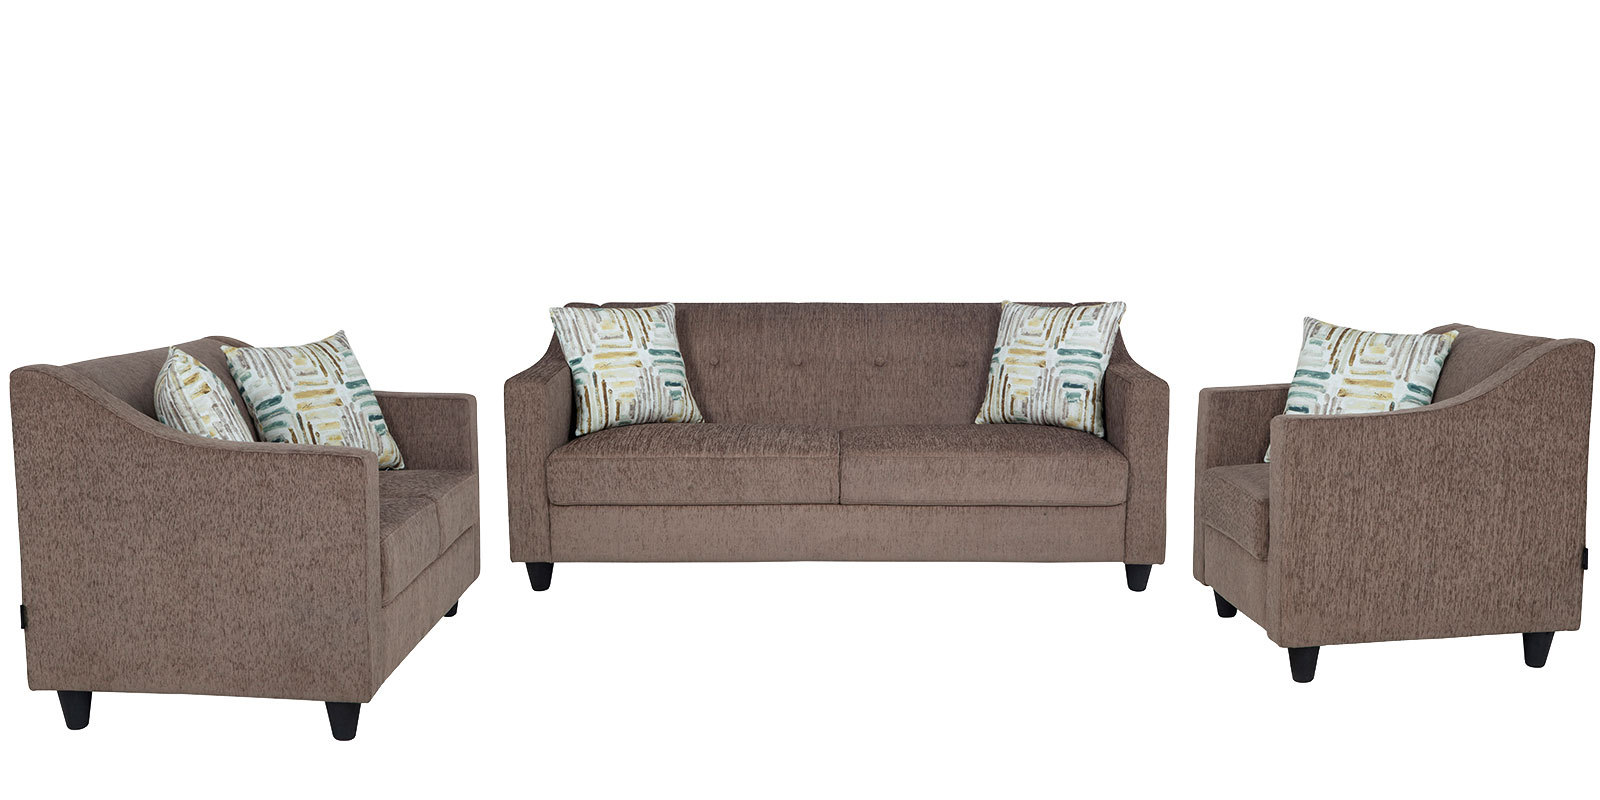Derby Three Seater Sofa in Grey Colour by Urban Living: (484, 276, 1176, 611)
